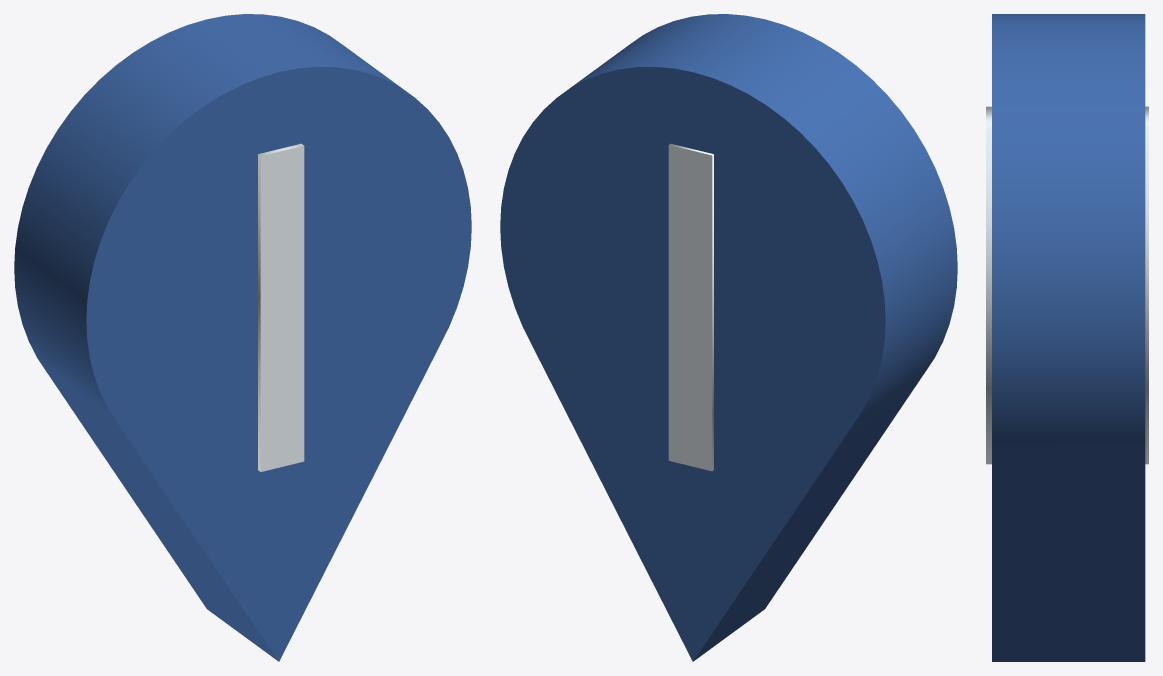
File: mekatoro_point_a.glb
3 renders of one model, left to right at view 1: azimuth 30°, elevation 25°; view 2: azimuth 150°, elevation 25°; view 3: azimuth 270°, elevation 25°, orthographic. The views are drawn at different scales.
Parts seen in each view (by area): view 1: 円, テキスト; view 2: 円, テキスト; view 3: 円, テキスト.
Boxes of the visible parts, <box> form: 円: <box>14,14,471,661</box>; テキスト: <box>258,143,304,471</box>; 円: <box>500,14,957,661</box>; テキスト: <box>668,143,713,471</box>; 円: <box>992,14,1145,661</box>; テキスト: <box>986,106,1148,464</box>.
Bounding box in the file's own units: 2 × 2.92 × 0.689.
2 materials, 2 textured.
